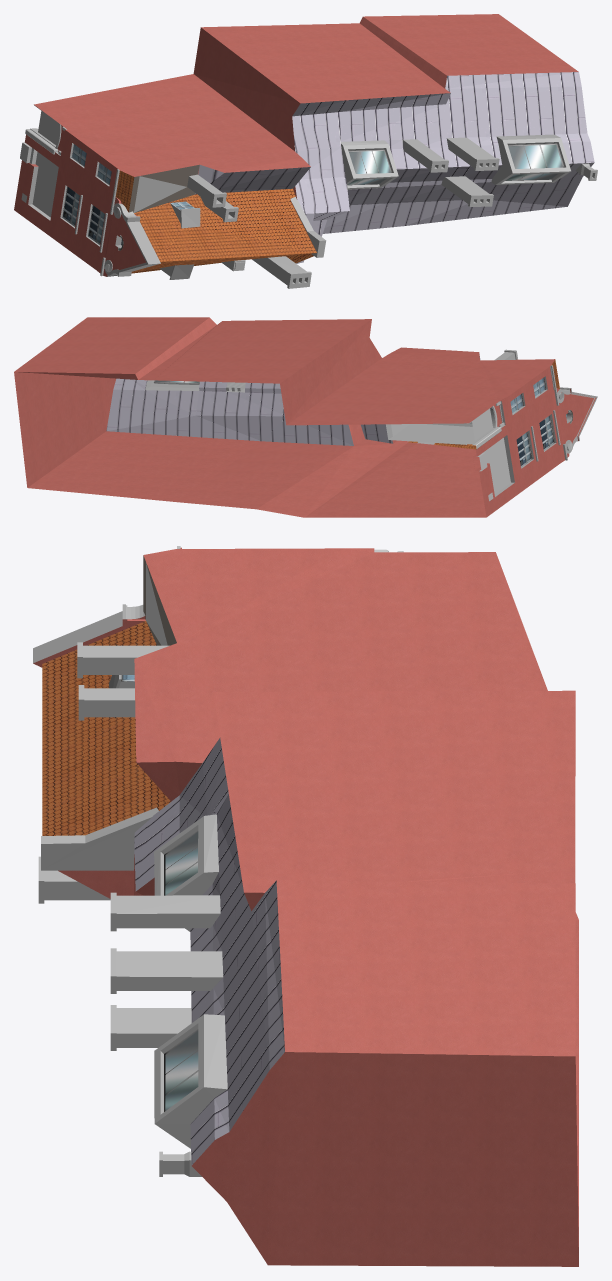
File: Raekoja_plats_15.obj
The picture shows the model from 3 angles, top to bottom: view 1: azimuth 30°, elevation 25°; view 2: azimuth 150°, elevation 25°; view 3: azimuth 270°, elevation 25°; orthographic projection. The views are drawn at different scales.
Parts seen in each view (by area): view 1: Raekoja_plats_15; view 2: Raekoja_plats_15; view 3: Raekoja_plats_15.
Part boxes in pixels (x1=…): Raekoja_plats_15: x1=14, y1=14, x2=597, y2=288; Raekoja_plats_15: x1=14, y1=317, x2=597, y2=517; Raekoja_plats_15: x1=33, y1=546, x2=578, y2=1266.
Size of the model in its own units: 38.94 by 13.53 by 20.28.
